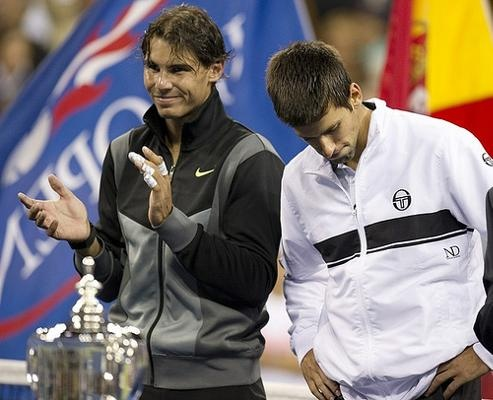person without safety: (258, 24, 455, 399), (101, 1, 266, 400)
